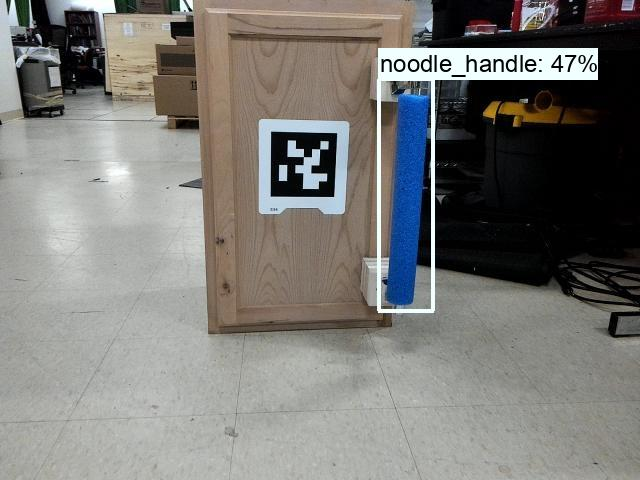noodle_handle: (374, 77, 437, 313)
